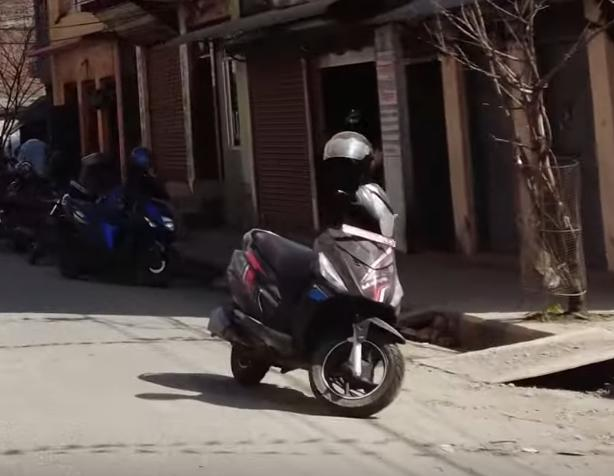scooter: (201, 171, 438, 431), (53, 177, 183, 289)
